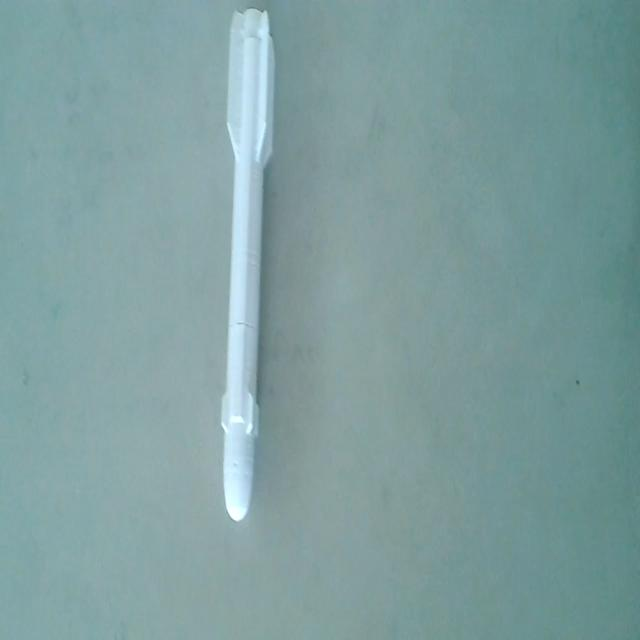Rocket: (221, 4, 277, 526)
